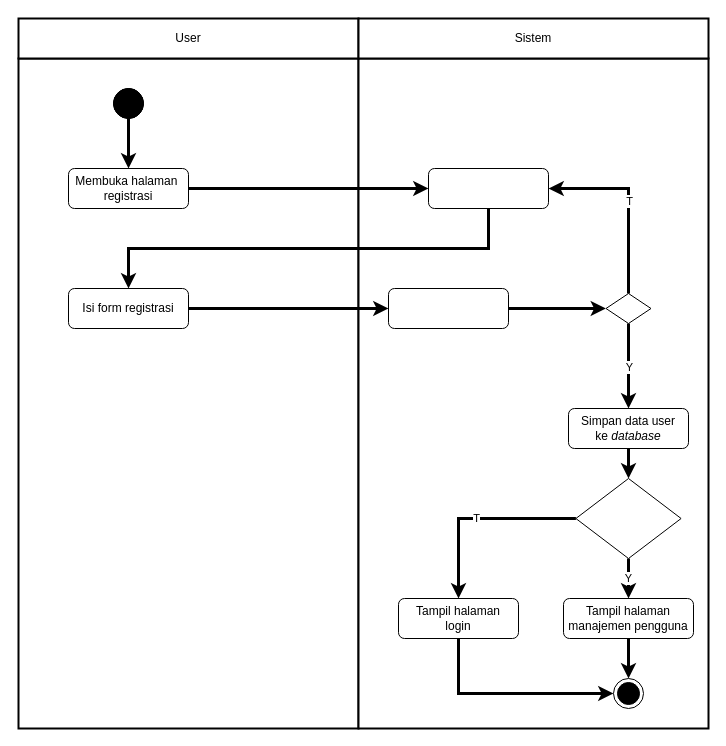
Image size: 726x746. Some labels were removed from this diagram. The shapes that lost their labels are listed below. From the top down, each one's centre as x and y in pixels, then its label:
At [488,188]: "Tampil form registrasi".
At [448,308]: "Validasi data".
At [628,518]: "cookie[level] = admin?".
